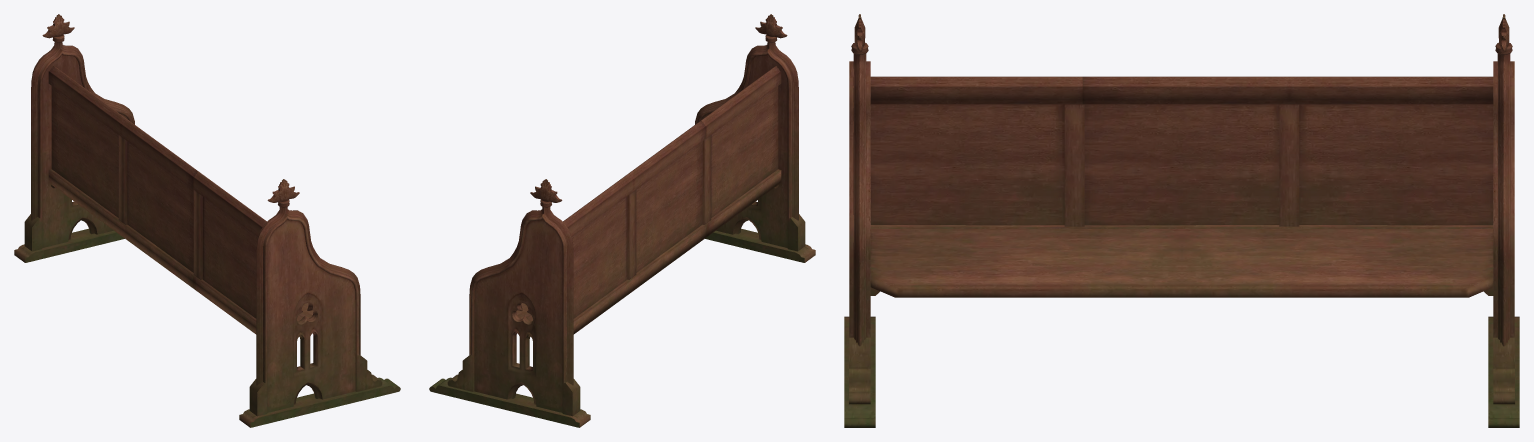
3 views of the same model, side by side, from view 1: azimuth 30°, elevation 25°; view 2: azimuth 150°, elevation 25°; view 3: azimuth 270°, elevation 25° (orthographic). The views are drawn at different scales.
Parts seen in each view (by area): view 1: SM_GothicBench02_LOD0; view 2: SM_GothicBench02_LOD0; view 3: SM_GothicBench02_LOD0.
Part boxes in pixels (left/top/right/bottom): SM_GothicBench02_LOD0: left=14, top=14, right=400, bottom=427; SM_GothicBench02_LOD0: left=429, top=14, right=815, bottom=427; SM_GothicBench02_LOD0: left=844, top=14, right=1519, bottom=427.
Size of the model in its own units: 1.16 by 1.73 by 3.15.
1 material, 1 textured.
